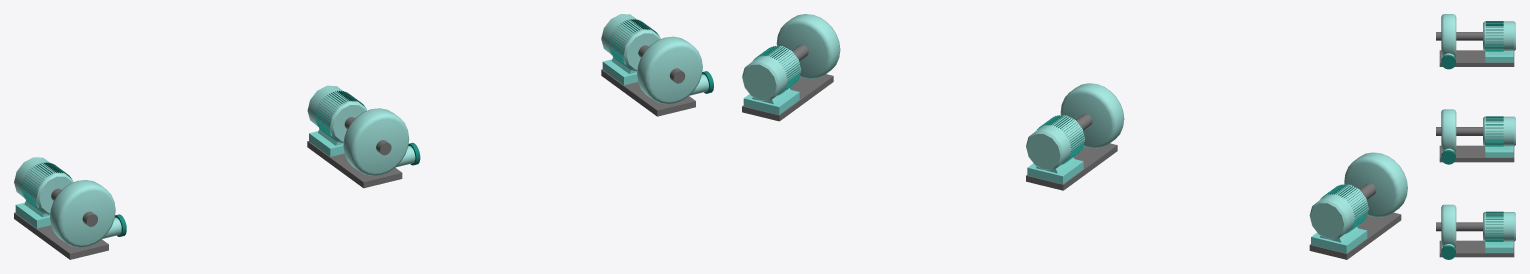
File: fpump.gltf
3 renders of one model, left to right at view 1: azimuth 30°, elevation 25°; view 2: azimuth 150°, elevation 25°; view 3: azimuth 270°, elevation 25°, orthographic. The views are drawn at different scales.
Visible parts, largest first — view 1: ChamferCyl012, ChamferCyl006, ChamferCyl014, ChamferCyl013, ChamferCyl005, ChamferCyl011, Box498, Box369, Box531, Box370, Box532, Box499; view 2: ChamferCyl014, ChamferCyl006, ChamferCyl012, ChamferCyl013, ChamferCyl011, ChamferCyl005, Box531, Box369, Box498, Box499, Box532, Box370; view 3: ChamferCyl011, ChamferCyl005, ChamferCyl013, Box498, Box369, Box531, ChamferCyl006, ChamferCyl012, ChamferCyl014, Cylinder542, Cylinder565, Cylinder568 (+9 smaller).
Part boxes in pixels (bbox=[...]): ChamferCyl012: bbox=[343, 108, 409, 175]; ChamferCyl006: bbox=[637, 36, 702, 104]; ChamferCyl014: bbox=[50, 180, 115, 247]; ChamferCyl013: bbox=[14, 157, 73, 213]; ChamferCyl005: bbox=[601, 14, 660, 70]; ChamferCyl011: bbox=[307, 85, 366, 142]; Box498: bbox=[307, 141, 402, 188]; Box369: bbox=[601, 69, 695, 116]; Box531: bbox=[14, 212, 108, 259]; Box370: bbox=[602, 59, 637, 85]; Box532: bbox=[15, 202, 50, 228]; Box499: bbox=[309, 131, 344, 156]; ChamferCyl014: bbox=[1344, 152, 1407, 217]; ChamferCyl006: bbox=[776, 14, 840, 79]; ChamferCyl012: bbox=[1060, 83, 1124, 148]; ChamferCyl013: bbox=[1309, 184, 1368, 239]; ChamferCyl011: bbox=[1026, 115, 1084, 170]; ChamferCyl005: bbox=[742, 46, 801, 101]; Box531: bbox=[1309, 212, 1401, 259]; Box369: bbox=[742, 74, 833, 121]; Box498: bbox=[1026, 143, 1117, 190]; Box499: bbox=[1027, 159, 1083, 183]; Box532: bbox=[1311, 228, 1367, 253]; Box370: bbox=[743, 90, 799, 114]; ChamferCyl011: bbox=[1483, 116, 1515, 146]; ChamferCyl005: bbox=[1483, 212, 1515, 241]; ChamferCyl013: bbox=[1483, 21, 1515, 50]; Box498: bbox=[1439, 145, 1514, 162]; Box369: bbox=[1439, 240, 1514, 257]; Box531: bbox=[1439, 50, 1514, 66]; ChamferCyl006: bbox=[1441, 204, 1456, 248]; ChamferCyl012: bbox=[1441, 109, 1456, 152]; ChamferCyl014: bbox=[1441, 14, 1456, 57]; Cylinder542: bbox=[1436, 222, 1482, 231]; Cylinder565: bbox=[1436, 127, 1482, 135]; Cylinder568: bbox=[1436, 32, 1482, 40].
Bounding box in the file's own units: 66.27 × 6.49 × 10.52.
4 materials, 4 textured.
